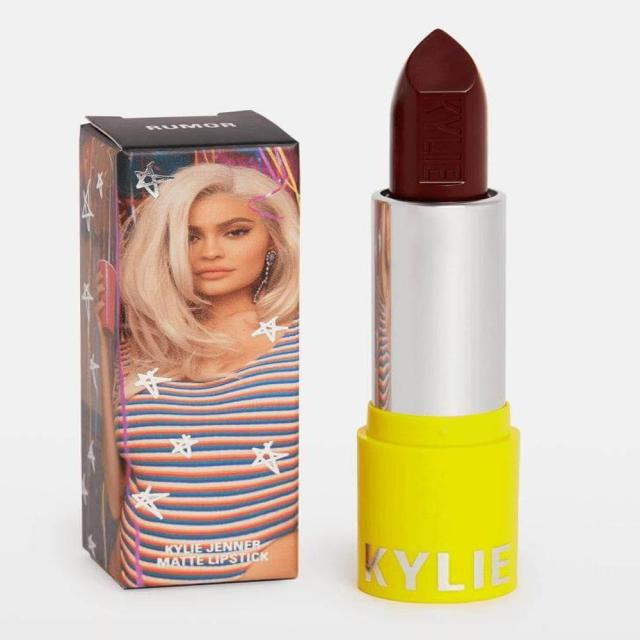lipstick: (340, 20, 523, 614)
